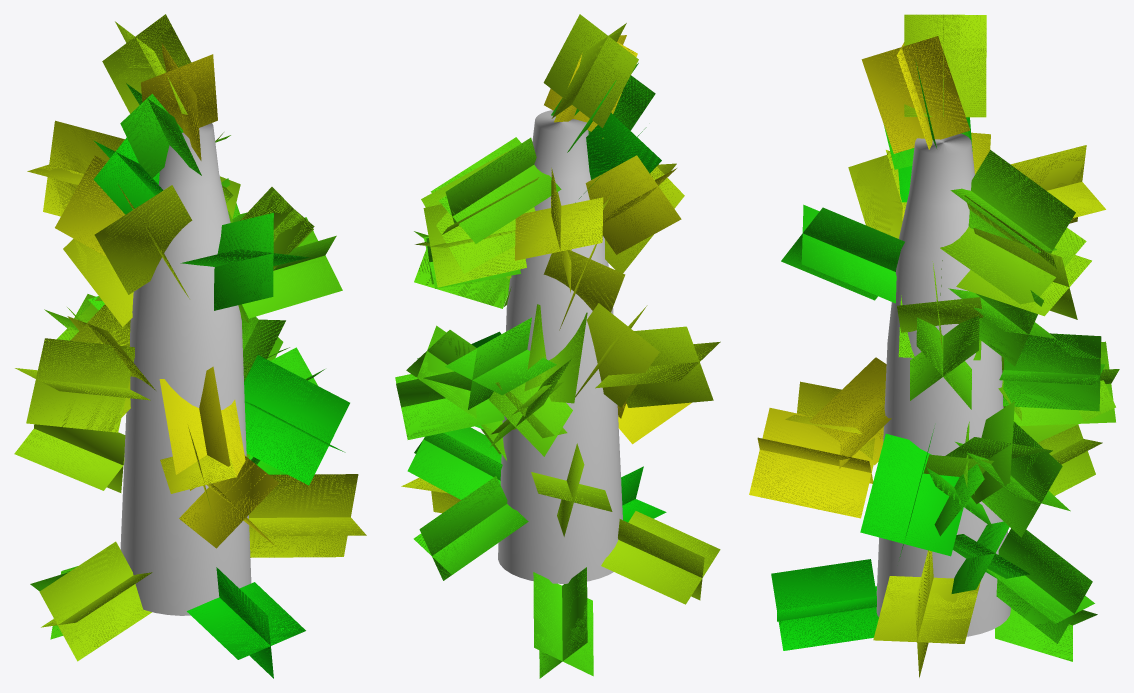
The model's file is Type_6_Tree_2.fbx.
3 views of the same model, side by side, from view 1: azimuth 30°, elevation 25°; view 2: azimuth 150°, elevation 25°; view 3: azimuth 270°, elevation 25° (orthographic). The views are drawn at different scales.
Visible parts, largest first — view 1: Leaf, Trunk; view 2: Leaf, Trunk; view 3: Leaf, Trunk.
Boxes of the visible parts, box(x1,y1,x2,y2) form: Leaf: box(14, 14, 366, 678); Trunk: box(120, 123, 251, 615); Leaf: box(395, 14, 720, 678); Trunk: box(498, 110, 622, 583); Leaf: box(749, 14, 1119, 677); Trunk: box(876, 133, 1010, 636).
Size of the model in its own units: 2023 by 3937 by 2009.
